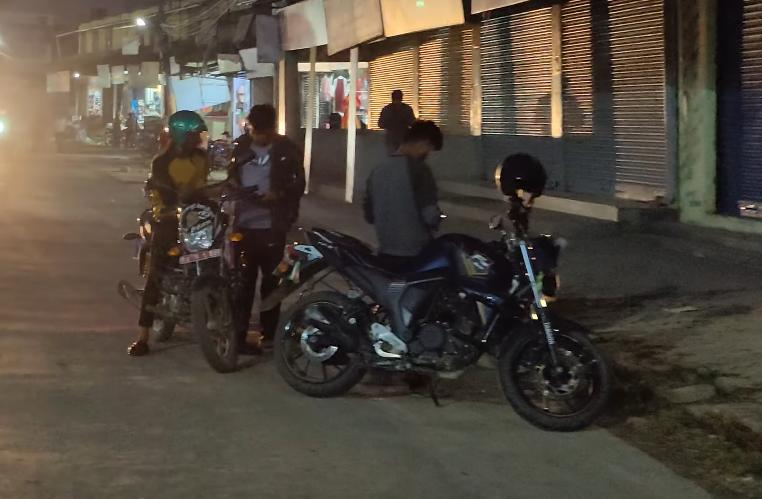bike: (258, 183, 614, 436), (123, 166, 256, 384)
